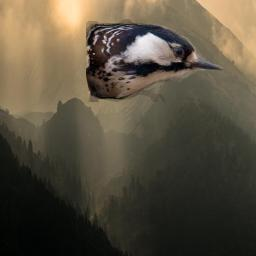Woodpecker: (86, 17, 223, 102)
